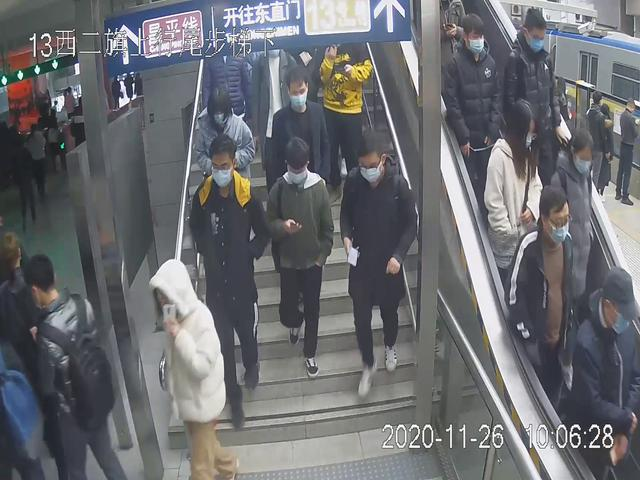person: (17, 246, 129, 480), (191, 136, 269, 436), (337, 128, 417, 400), (146, 253, 240, 476), (502, 177, 580, 415), (267, 136, 333, 380), (566, 268, 640, 480), (443, 5, 512, 214), (548, 126, 598, 390), (499, 1, 562, 198), (269, 65, 333, 253), (485, 97, 543, 297)
